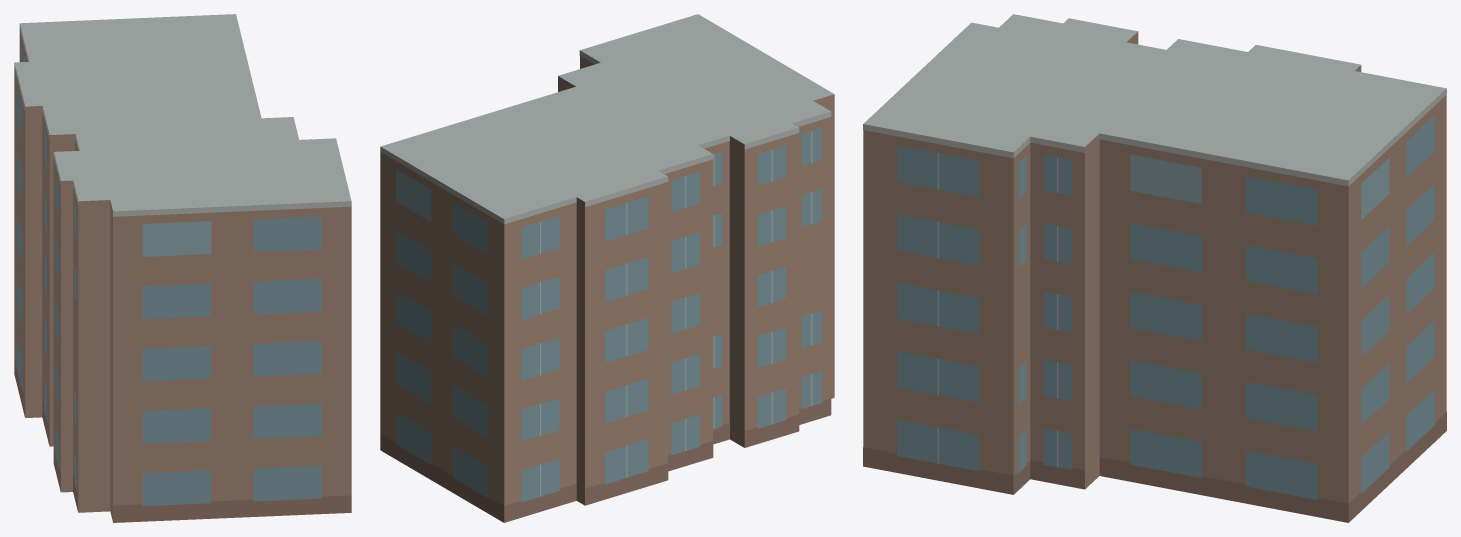
Rendered from survey-upis-32656823.glb.
3 renders of one model, left to right at view 1: azimuth 30°, elevation 25°; view 2: azimuth 150°, elevation 25°; view 3: azimuth 270°, elevation 25°, orthographic. The views are drawn at different scales.
Parts seen in each view (by area): view 1: survey-upis-32656823.tmp; view 2: survey-upis-32656823.tmp; view 3: survey-upis-32656823.tmp.
Boxes of the visible parts, left/top/right/bottom form: survey-upis-32656823.tmp: left=14, top=14, right=351, bottom=522; survey-upis-32656823.tmp: left=380, top=14, right=834, bottom=522; survey-upis-32656823.tmp: left=863, top=14, right=1446, bottom=522.
Bounding box in the file's own units: 14.6 × 14 × 21.63.
